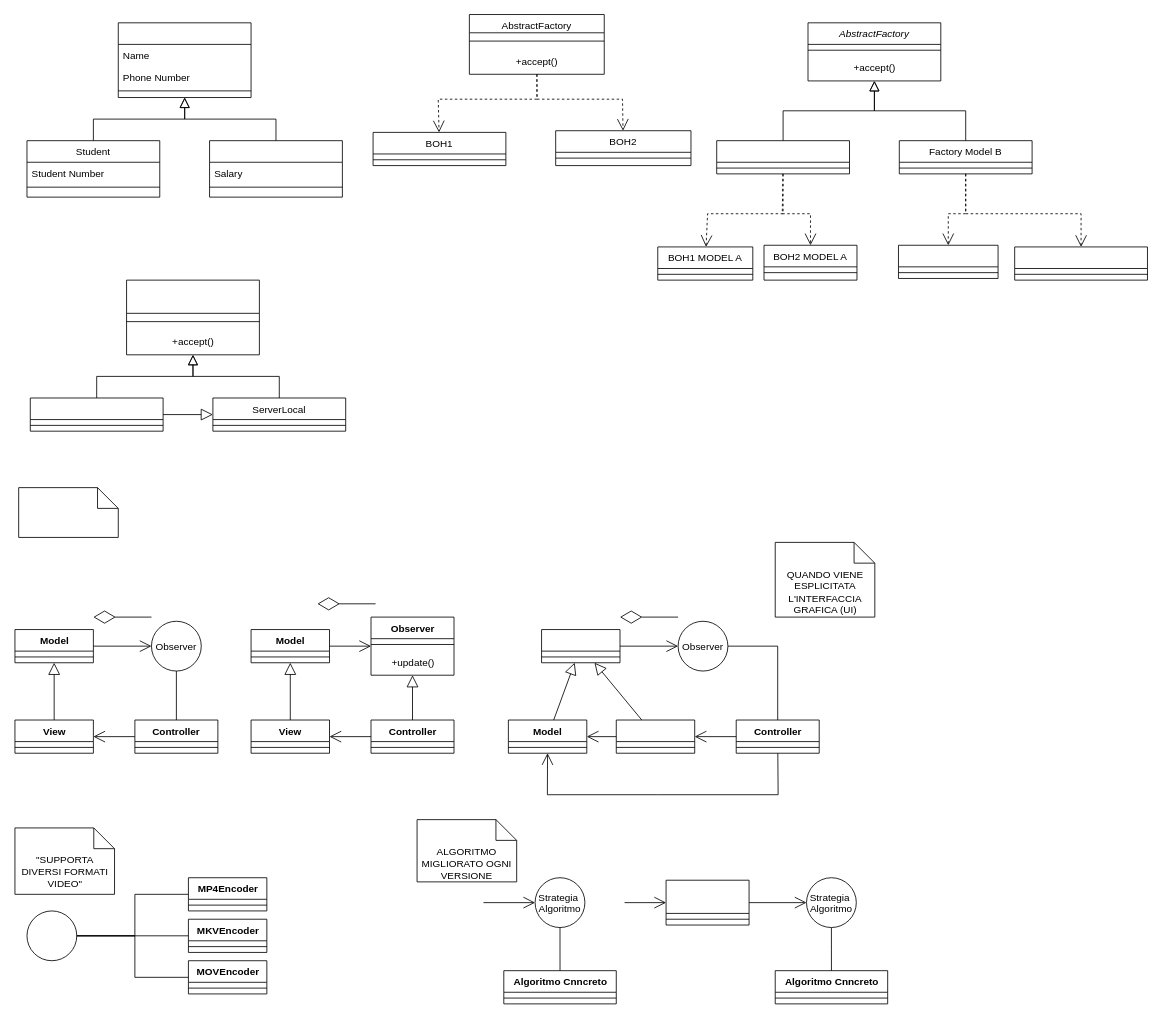
The diagram is 1162 pixels wide and 1018 high, and some of its shapes have lost their labels. Each missing label, with the box of its shape:
Algorithm Controller: (665, 879, 749, 925)
BOH1 MODEL B: (898, 244, 998, 278)
BOH2 MODEL B: (1014, 246, 1147, 280)
Encoder: (26, 910, 77, 961)
Factory Model A: (716, 140, 850, 174)
MVC: (18, 487, 118, 537)
Person: (117, 22, 251, 98)
Professor: (209, 140, 342, 197)
ServerProxy: (29, 397, 163, 431)
Subject: (541, 629, 620, 663)
View (UI): (615, 719, 695, 753)
«interface» Server: (126, 279, 259, 355)
